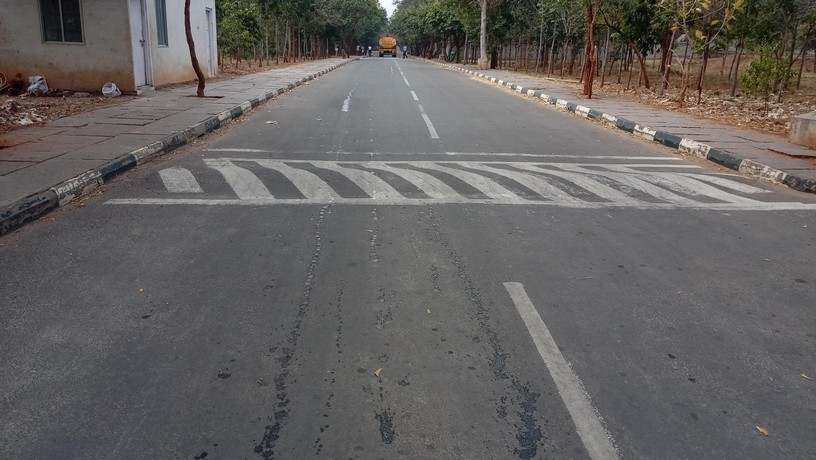bump: (92, 140, 815, 205)
